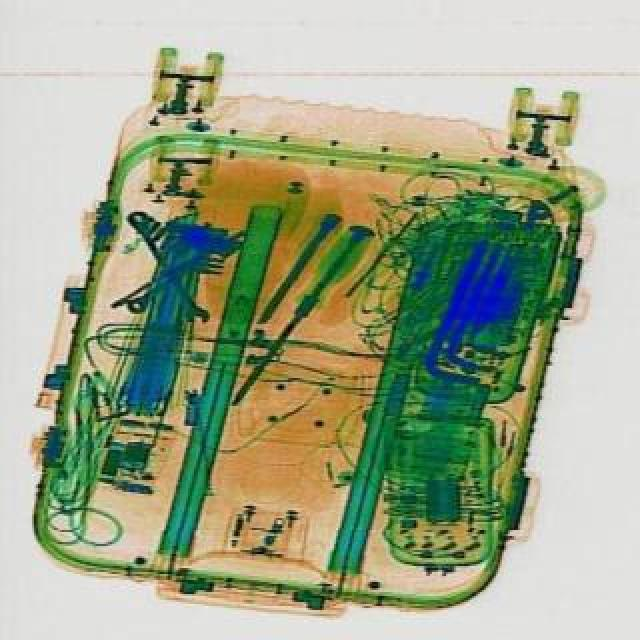scissors: (122, 206, 212, 328)
